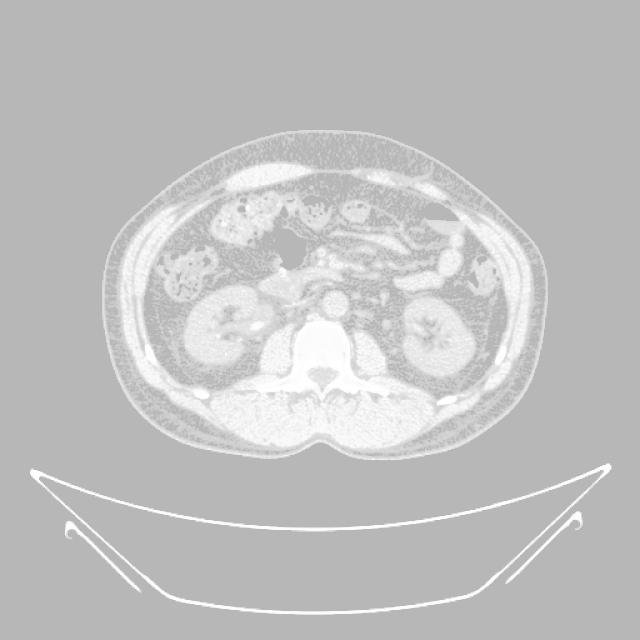STONE: (172, 147, 495, 304)
